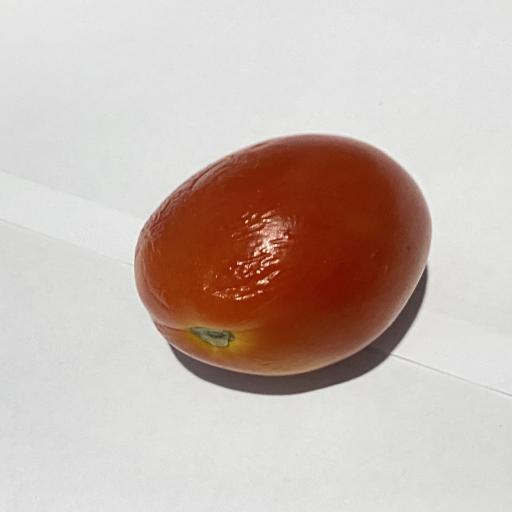spoiled: (134, 134, 431, 375)
